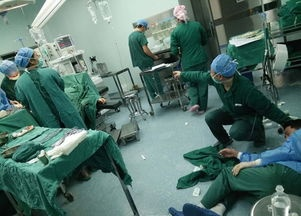falling: (161, 112, 301, 216)
